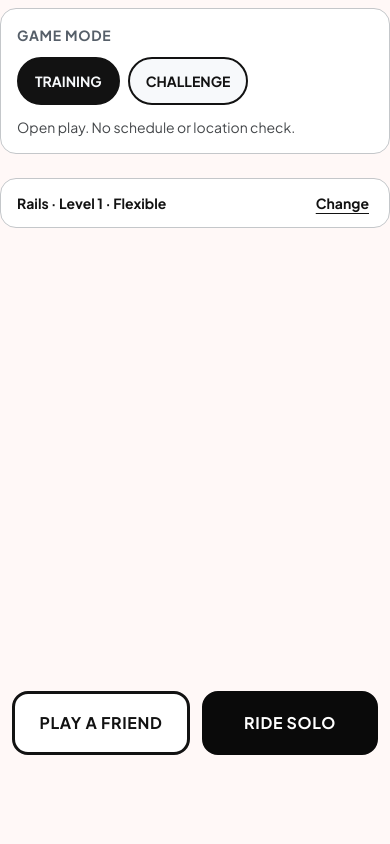
it: GameCreateForm › keeps challenge validation on the spot setup step
Click the radio button labelled "Challenge".
click(188, 81)  # box [128,57,248,105]
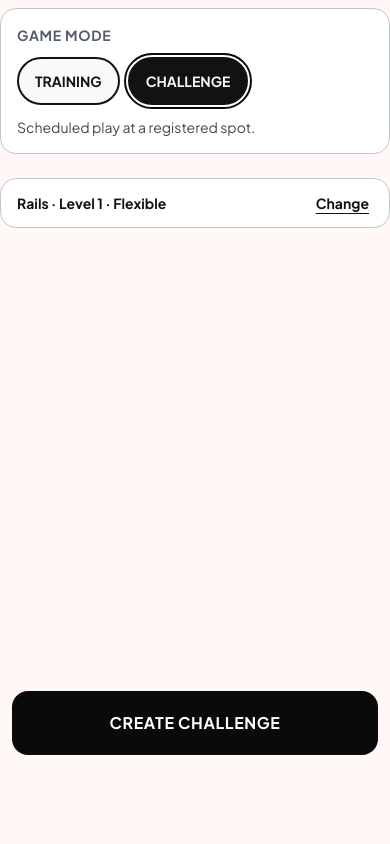
Click the button with test id "mobile-review-trigger".
click(342, 203)  # box [304,179,381,227]
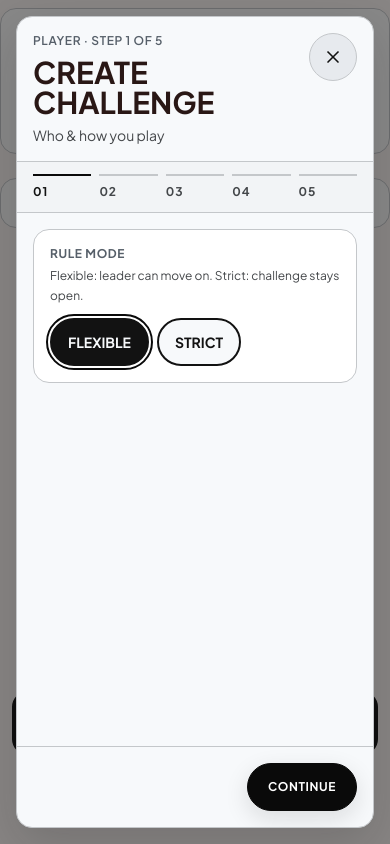
expect the radio button labelled "Flexible" is shown: met, box [50,318,149,366]
Click the button "Continue".
click(302, 787)  # box [247,763,357,811]
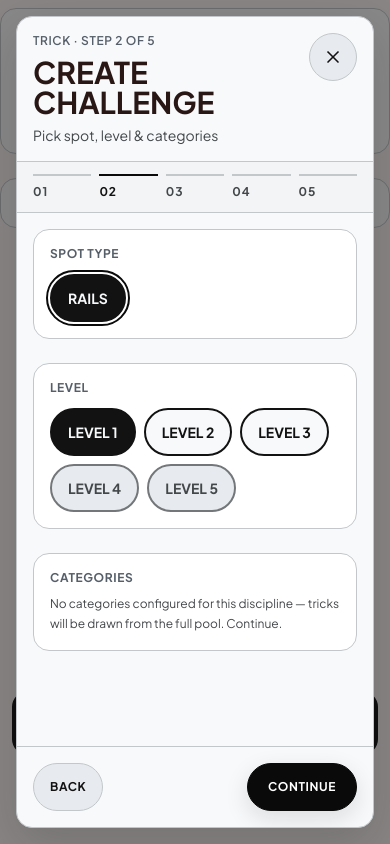
expect the radio button labelled "Rails" is shown: met, box [50,274,126,322]
Click the button "Continue".
click(302, 787)  # box [247,763,357,811]
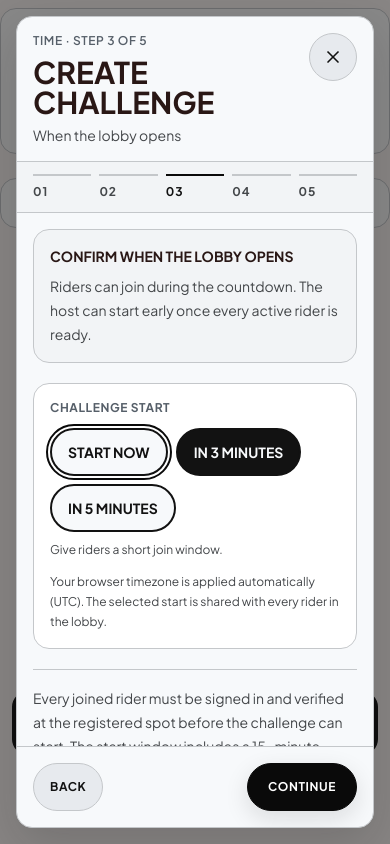
Click the button "Continue".
click(302, 787)  # box [247,763,357,811]
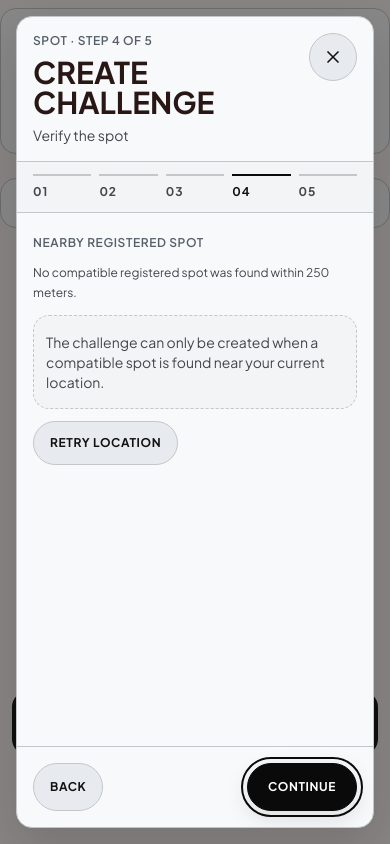
Submit the form with id "game-create-form", box [0,8,389,252]
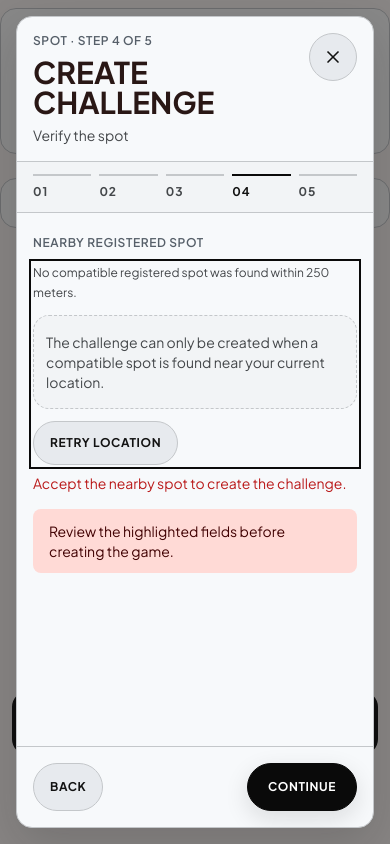
expect the text "Verify the spot" is shown: met, box [33,126,129,144]
expect the text "Accept the nearby spot to create the challenge." is shown: met, box [33,473,357,493]
